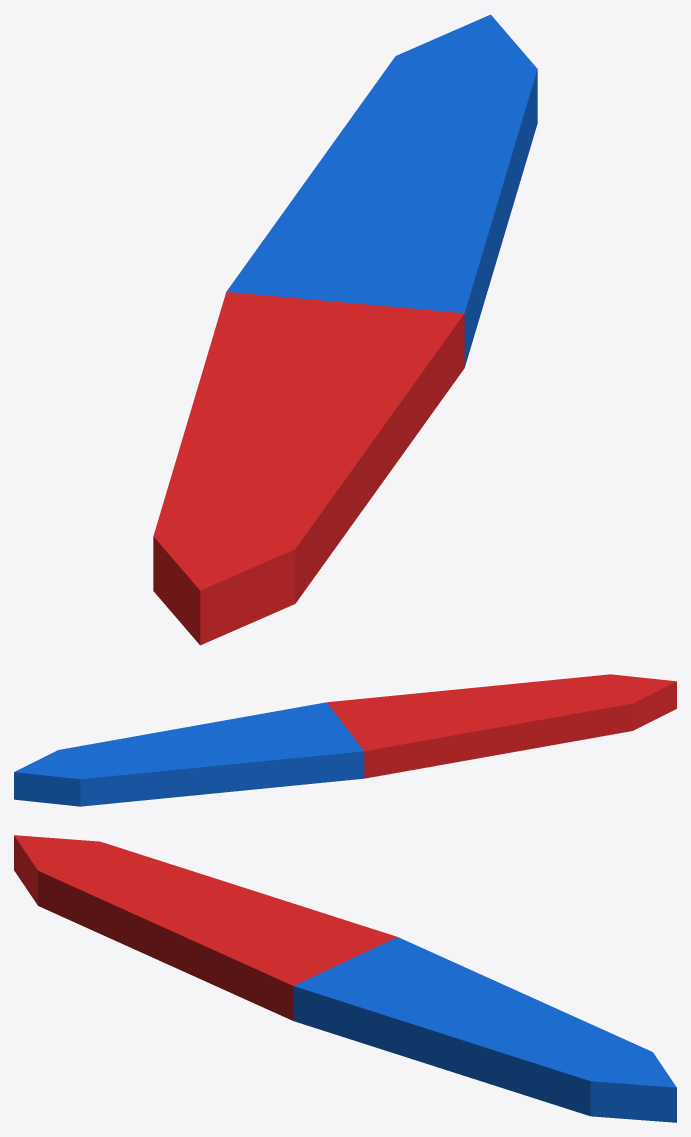
The model's file is Compass_Nadel.fbx.
The picture shows the model from 3 angles, top to bottom: view 1: azimuth 30°, elevation 25°; view 2: azimuth 150°, elevation 25°; view 3: azimuth 270°, elevation 25°; orthographic projection. The views are drawn at different scales.
Parts seen in each view (by area): view 1: Plane.002; view 2: Plane.002; view 3: Plane.002.
Part boxes in pixels (x1,y1,x2,y2): Plane.002: (153,14,537,645); Plane.002: (14,674,676,806); Plane.002: (14,835,676,1122).
Bounding box in the file's own units: 77.78 × 5.04 × 86.29.
